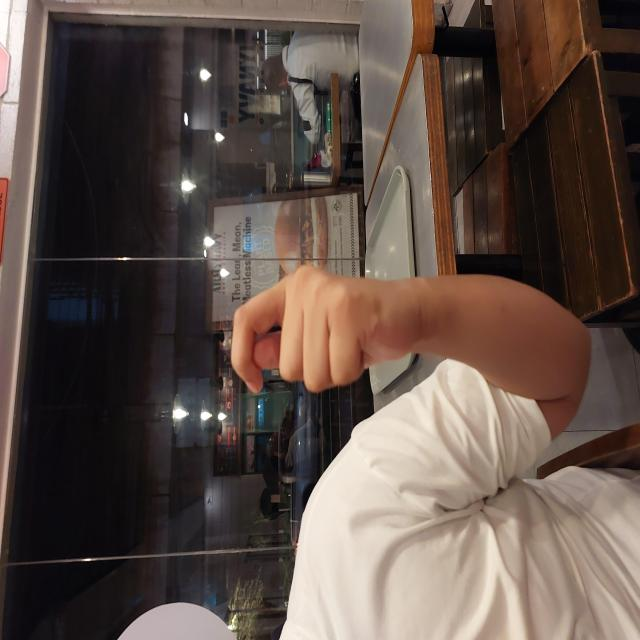T: (244, 228, 377, 425)
